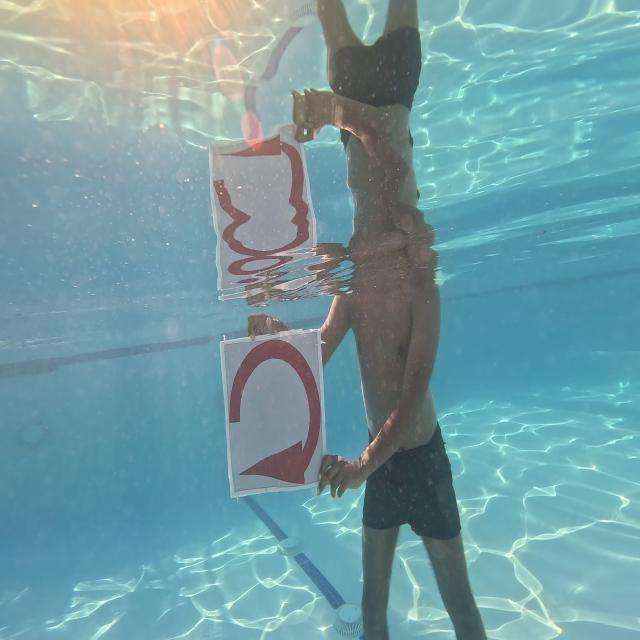red_side: (224, 324, 338, 502)
